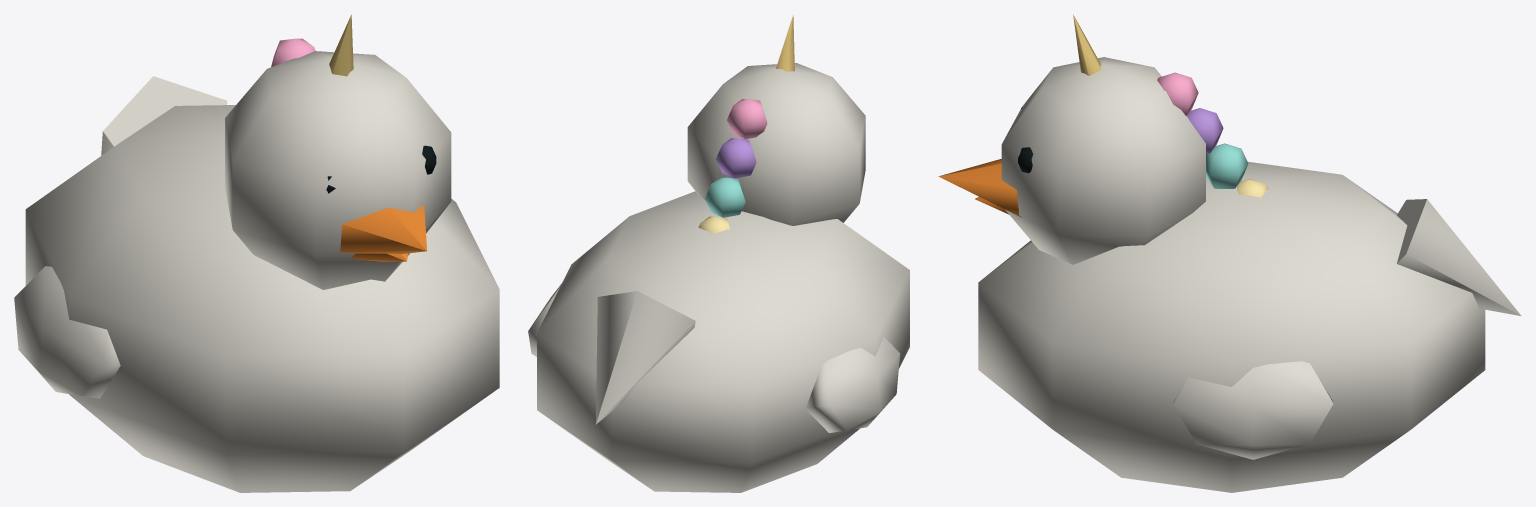
The model's file is duck-unicorn.glb.
3 views of the same model, side by side, from view 1: azimuth 30°, elevation 25°; view 2: azimuth 150°, elevation 25°; view 3: azimuth 270°, elevation 25° (orthographic). The views are drawn at different scales.
Visible parts, largest first — view 1: CouncilDuck_unicorn; view 2: CouncilDuck_unicorn; view 3: CouncilDuck_unicorn.
Boxes of the visible parts, box(x1,y1,x2,y2) form: CouncilDuck_unicorn: box(14, 14, 499, 492); CouncilDuck_unicorn: box(528, 15, 909, 492); CouncilDuck_unicorn: box(938, 14, 1521, 492).
Bounding box in the file's own units: 2.46 × 2.82 × 3.29.
